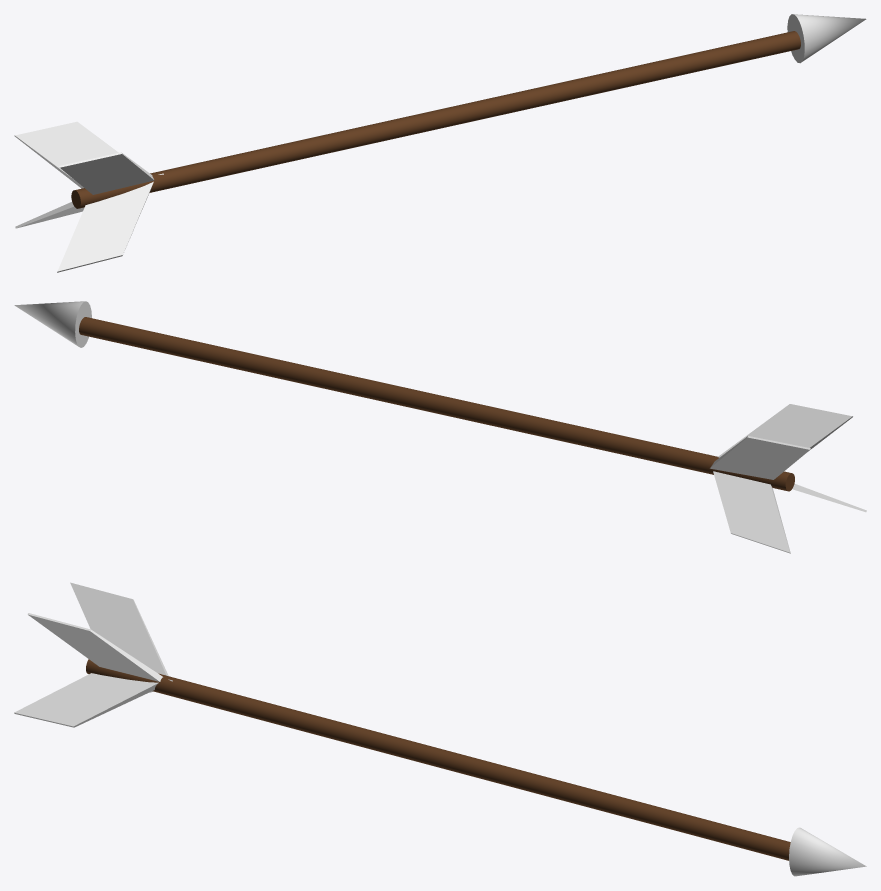
The model's file is flecha.fbx.
The picture shows the model from 3 angles, top to bottom: view 1: azimuth 30°, elevation 25°; view 2: azimuth 150°, elevation 25°; view 3: azimuth 330°, elevation 25°; orthographic projection.
Parts seen in each view (by area): view 1: polySurface6; view 2: polySurface6; view 3: polySurface6.
Part boxes in pixels (left/top/right/bottom): polySurface6: left=14, top=14, right=866, bottom=272; polySurface6: left=14, top=301, right=866, bottom=553; polySurface6: left=14, top=582, right=866, bottom=876.
Bounding box in the file's own units: 5.08 × 0.6005 × 0.6561.
